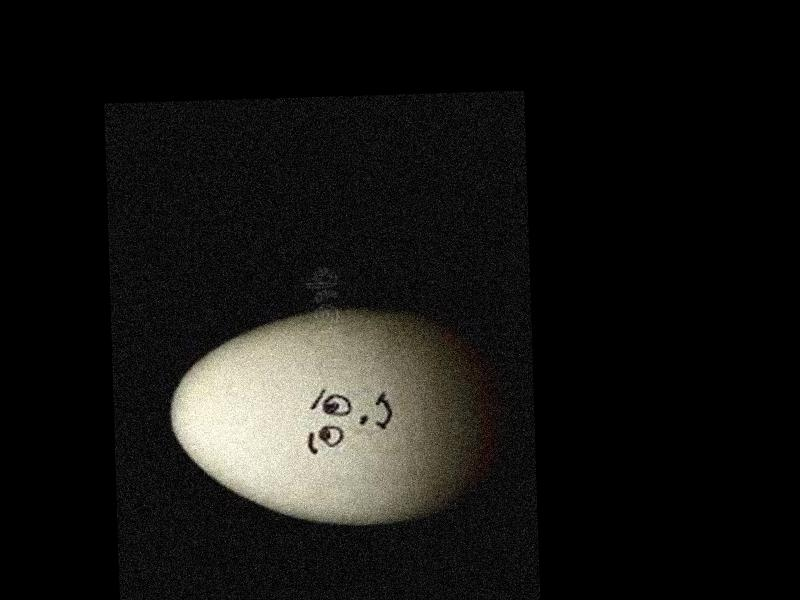Eggs: (166, 305, 494, 529)
